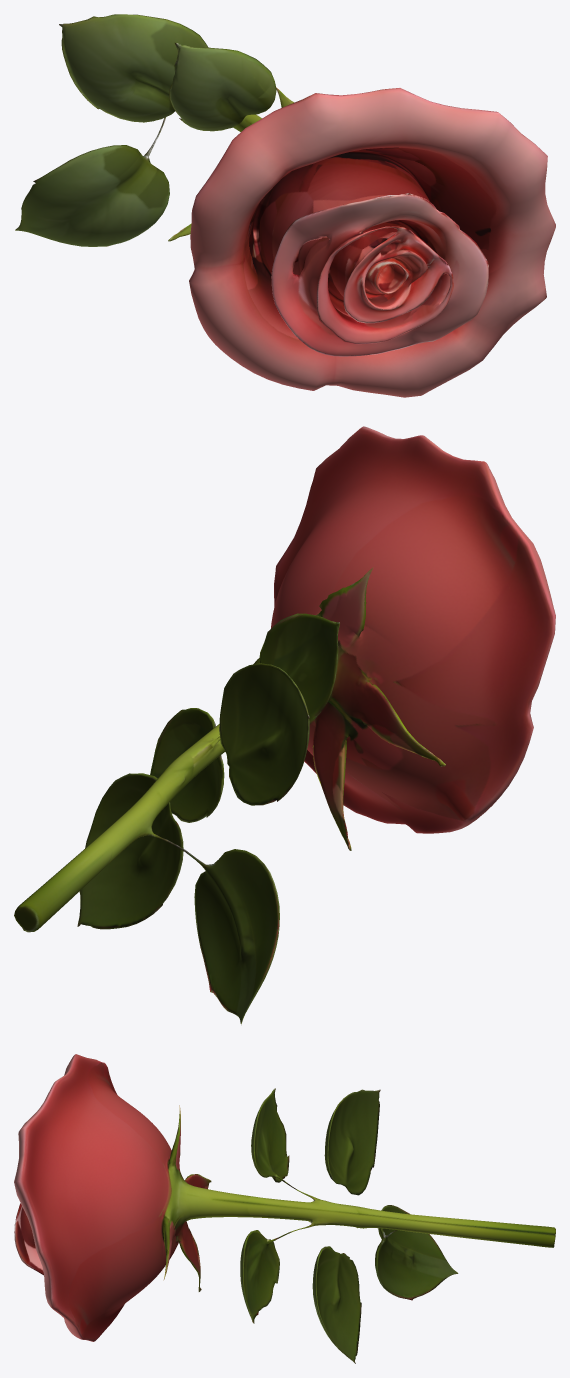
The model's file is Rose.fbx.
3 views of the same model, one above another, from view 1: azimuth 30°, elevation 25°; view 2: azimuth 150°, elevation 25°; view 3: azimuth 270°, elevation 25° (orthographic). The views are drawn at different scales.
Visible parts, largest first — view 1: Rose; view 2: Rose; view 3: Rose.
Part boxes in pixels (<box>): Rose: <box>15,14,555,397</box>; Rose: <box>14,426,555,1024</box>; Rose: <box>14,1054,555,1363</box>.
Size of the model in its own units: 32.76 by 34.25 by 68.07.
